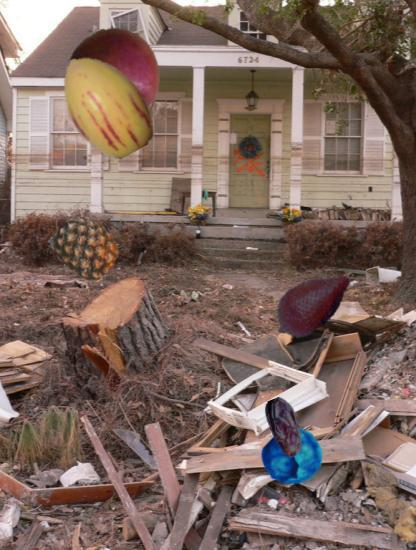Apple: (66, 27, 164, 125)
Dates: (255, 397, 316, 458)
Huckleberry: (263, 427, 323, 487)
Pepino: (50, 49, 161, 160)
Pineapple: (54, 217, 119, 282)
Salak: (266, 257, 357, 348)
